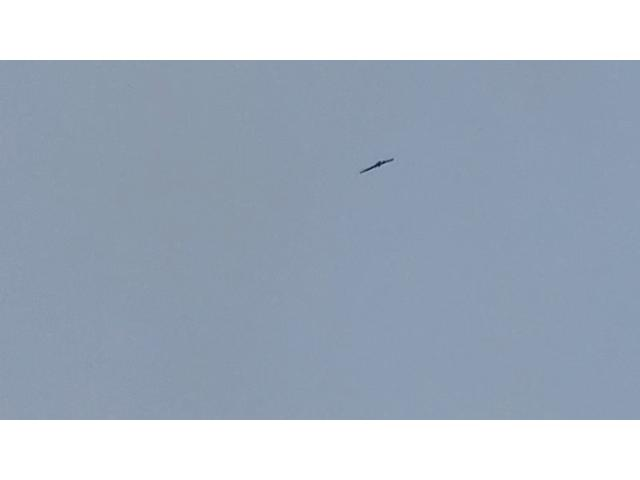Anti-Drone: (357, 155, 395, 175)
